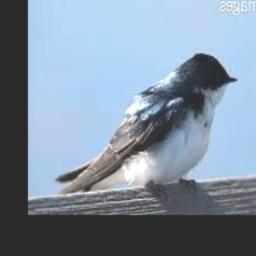Swallow: (55, 53, 238, 196)
